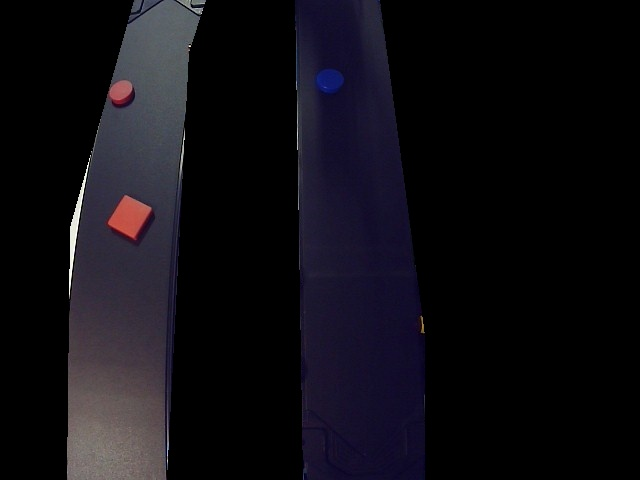Blue_Circle: (311, 66, 347, 94)
Red_Circle: (109, 77, 135, 107)
Red_Square: (103, 193, 157, 243)
